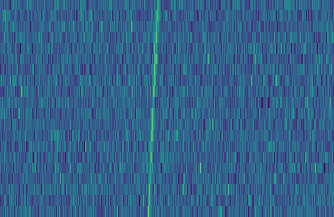signal: (144, 0, 162, 217)
